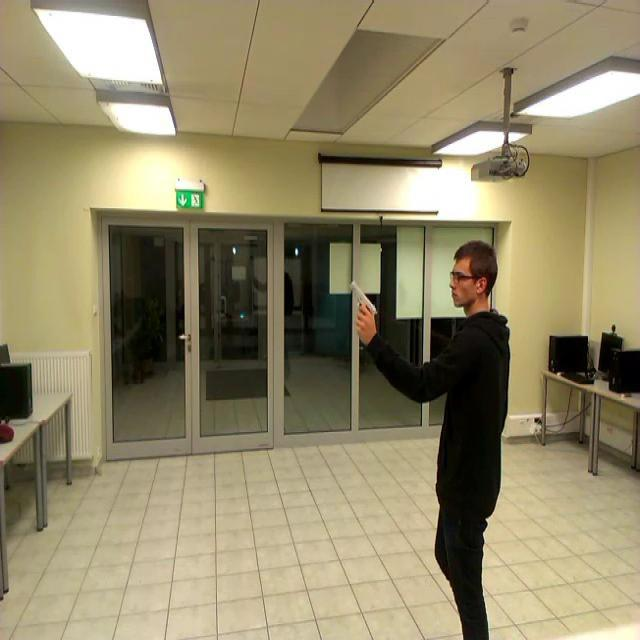weapon: (348, 280, 378, 331)
